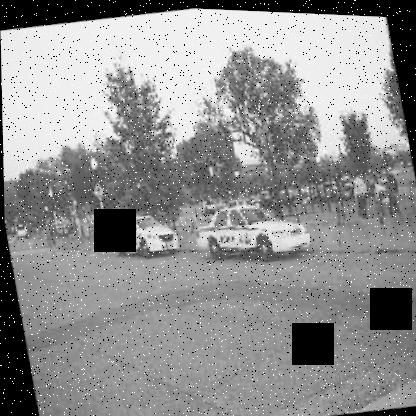emergency: (186, 182, 316, 272), (92, 195, 191, 269)
